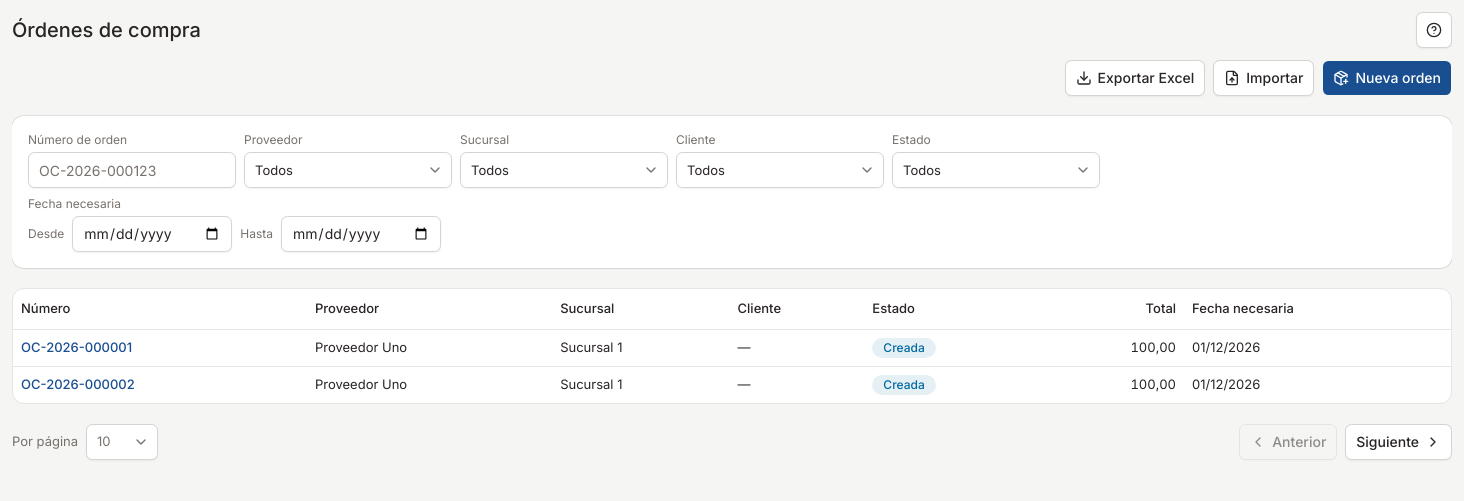
Scenario: filtros de la lista de órdenes › un rango invertido muestra un error y no se envía a la API
Type "2026-01-20" into the date field named "Fecha necesaria desde".
click(152, 234); type("2026-01-20")  # box [72,216,232,252]
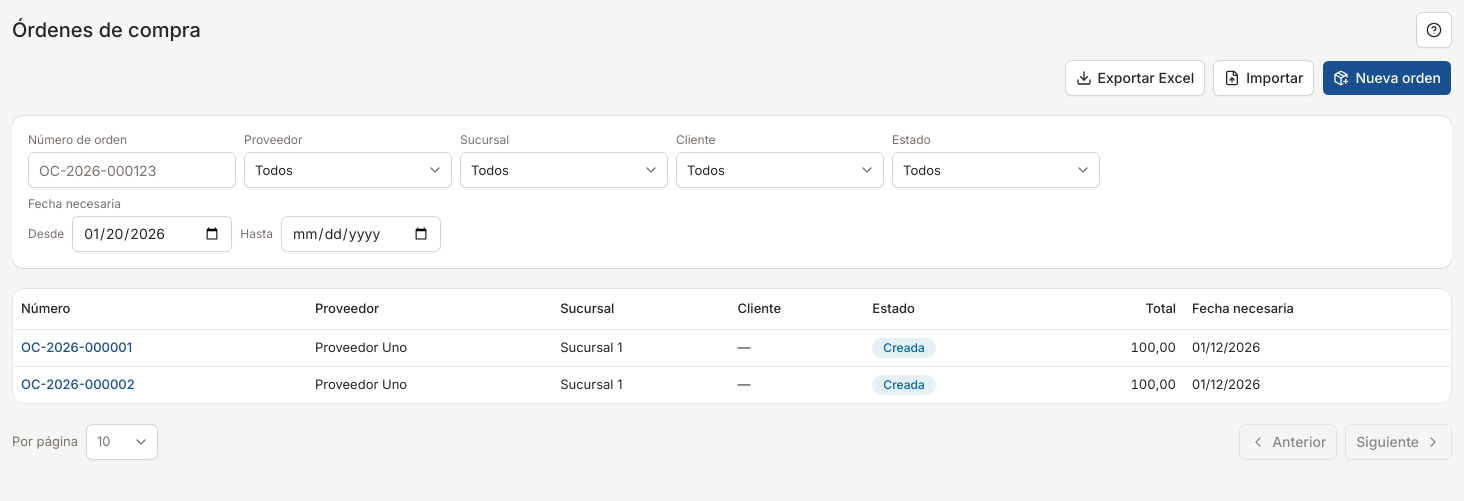
Type "2026-01-10" into the date field named "Fecha necesaria hasta".
click(361, 234); type("2026-01-10")  # box [281,216,441,252]
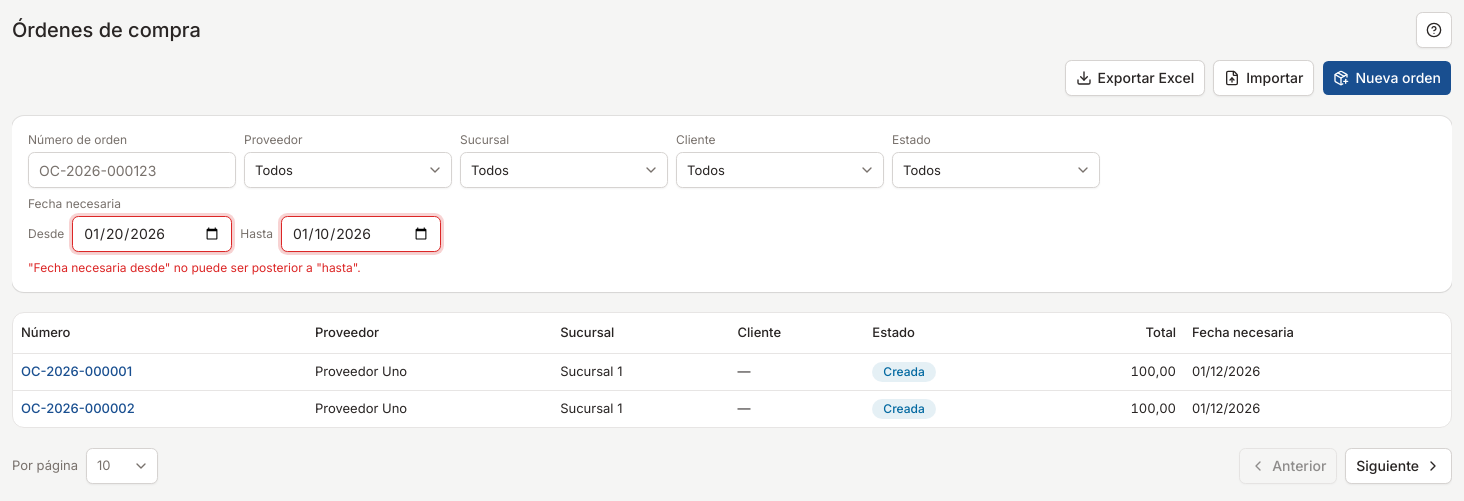
Check: the text "\"Fecha necesaria desde\" no puede ser posterior a \"hasta\"." is shown, box [28,260,361,275]
